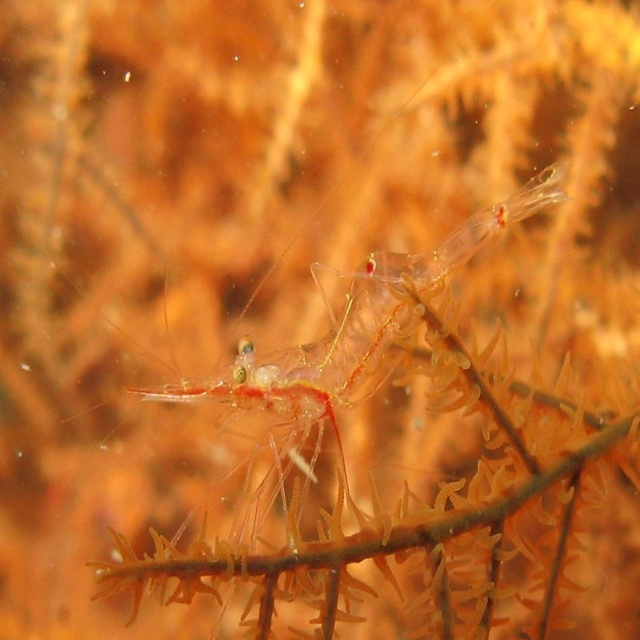Shrimp: (54, 64, 569, 559)
